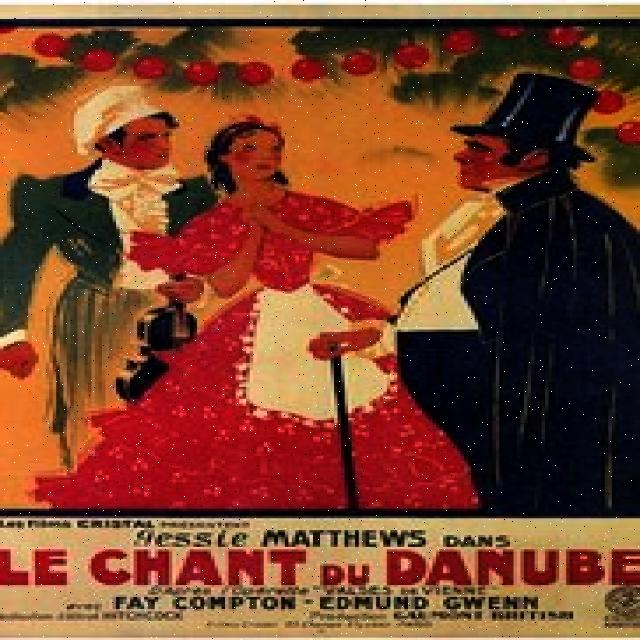movie-judul: (2, 547, 640, 590)
picture: (1, 21, 640, 516)
